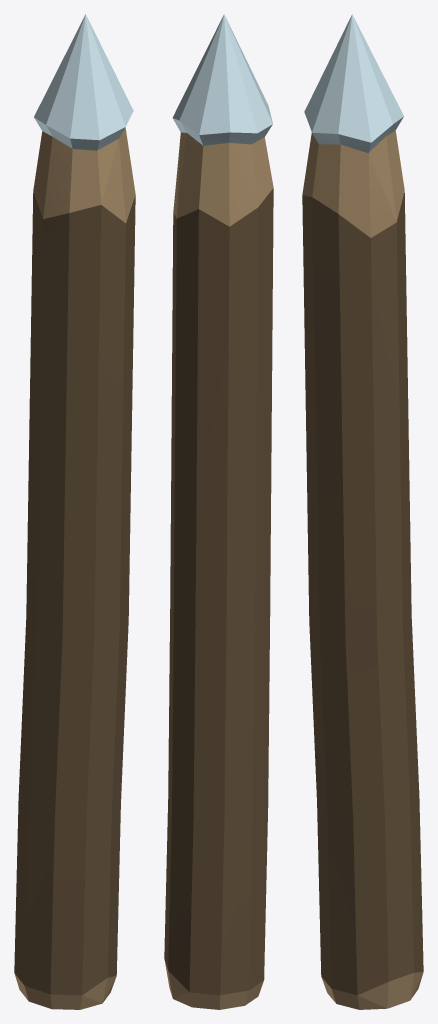
File: Estaca02.glb
3 views of the same model, side by side, from view 1: azimuth 90°, elevation 25°; view 2: azimuth 150°, elevation 25°; view 3: azimuth 270°, elevation 25° (orthographic).
Visible parts, largest first — view 1: SM_Prop_Wood_Sharp_02_Snow; view 2: SM_Prop_Wood_Sharp_02_Snow; view 3: SM_Prop_Wood_Sharp_02_Snow.
Boxes of the visible parts, x1,y1,x2,y2 form: SM_Prop_Wood_Sharp_02_Snow: (14,14,135,1009); SM_Prop_Wood_Sharp_02_Snow: (164,14,273,1009); SM_Prop_Wood_Sharp_02_Snow: (302,14,423,1009).
Size of the model in its own units: 0.3119 by 3.38 by 0.3769.
Materials: 1 (1 with a texture image).
